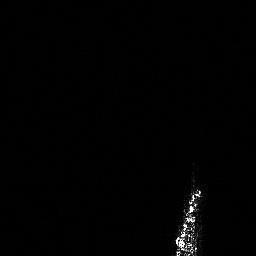ship: (173, 186, 203, 256)
